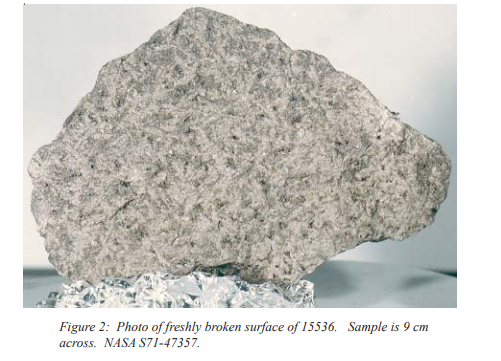Basalt: (44, 7, 426, 295)
